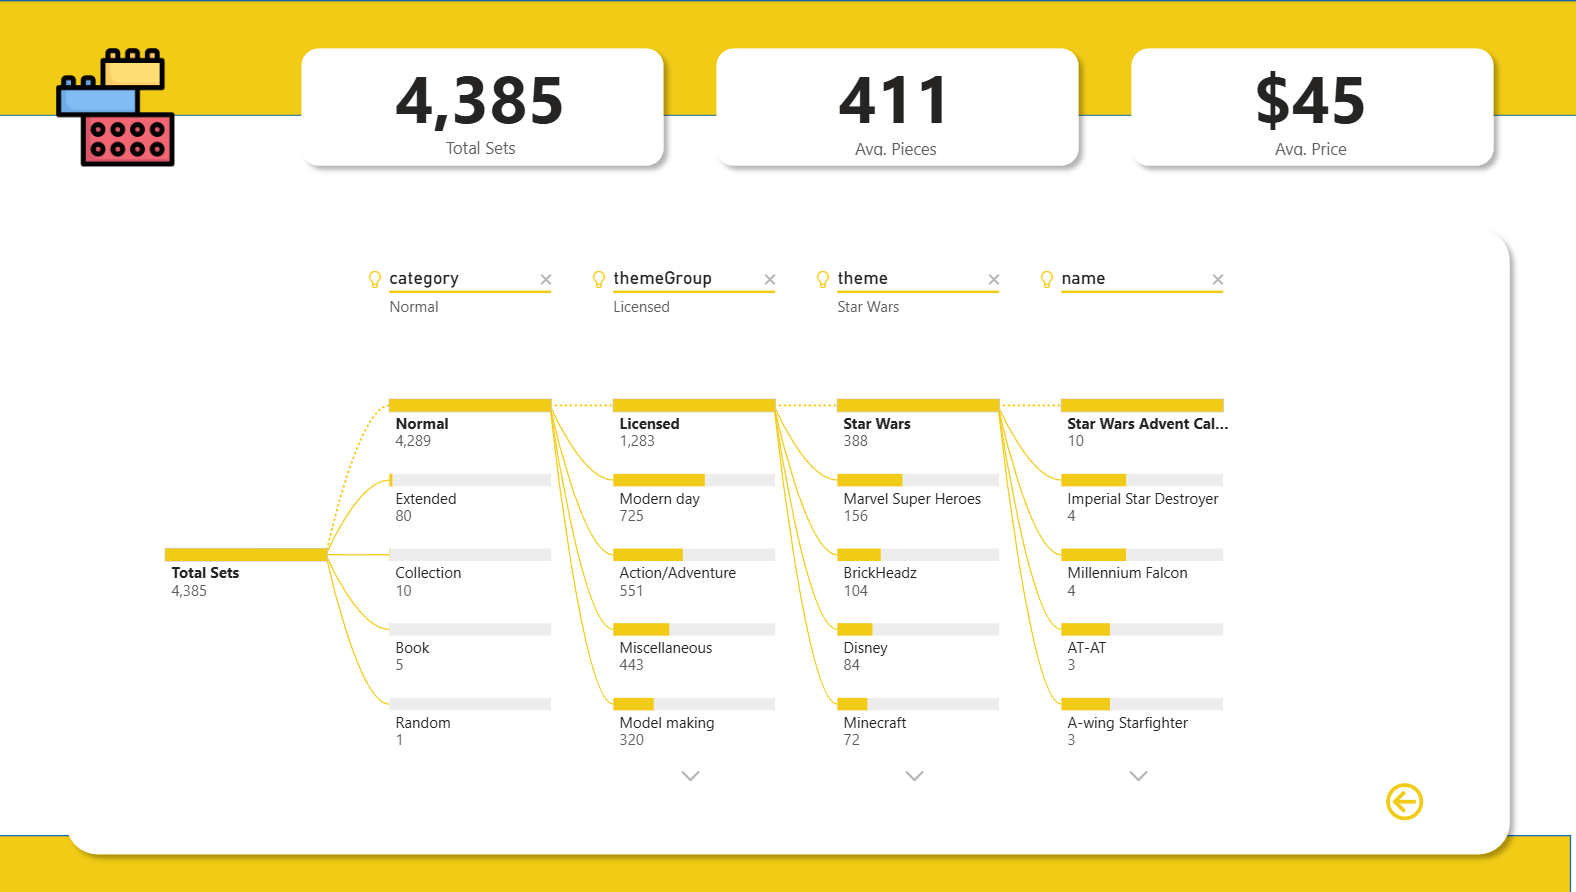

This screenshot's page, from the dashboard's own definition file:
{"tool":"powerbi","page":{"name":"Set Explorer","canvas":[1280,720],"ordinal":2},"visuals":[{"type":"shape","box":[10.4,0,1269.6,93.3],"z":0},{"type":"shape","box":[4.8,671.1,1269.6,48.6],"z":1000},{"type":"image","box":[47.8,33.5,114,105.2],"z":2000},{"type":"shape","box":[244.7,29.5,309.2,112.4],"z":3000},{"type":"shape","box":[911.8,29.5,309.2,112.4],"z":4000},{"type":"shape","box":[578.2,29.5,309.2,112.4],"z":5000},{"type":"card","fields":{"Values":["Measure Table.Total Sets"]},"box":[276.4,40.2,243.5,89.2],"z":6000},{"type":"card","fields":{"Values":["Measure Table.Avg. Price"]},"box":[943.7,40.2,243.9,89.7],"z":7000},{"type":"card","fields":{"Values":["Measure Table.Avg. Pieces"]},"box":[609.9,40.2,243.9,89.7],"z":8000},{"type":"shape","box":[55.9,175.1,1177.9,520.4],"z":9000},{"type":"decompositionTreeVisual","fields":{"Analyze":["Measure Table.Total Sets"],"ExplainBy":["lego_sets.category","lego_sets.themeGroup","lego_sets.theme","lego_sets.name"]},"box":[115.1,198.6,1072.5,472.6],"z":10000},{"type":"actionButton","box":[1121.1,624.2,99.7,39.7],"z":11000}]}

Visuals, with their boxes in screenshot pixels (x1, y1, x2, y2), scaled from the page's 1280x720 canvas onto the 1576x892 screenshot:
shape: [x1=13, y1=0, x2=1575, y2=116]
shape: [x1=6, y1=831, x2=1569, y2=891]
image: [x1=59, y1=42, x2=199, y2=172]
shape: [x1=301, y1=37, x2=682, y2=176]
shape: [x1=1123, y1=37, x2=1503, y2=176]
shape: [x1=712, y1=37, x2=1093, y2=176]
card - Measure Table.Total Sets: [x1=340, y1=50, x2=640, y2=160]
card - Measure Table.Avg. Price: [x1=1162, y1=50, x2=1462, y2=161]
card - Measure Table.Avg. Pieces: [x1=751, y1=50, x2=1051, y2=161]
shape: [x1=69, y1=217, x2=1519, y2=862]
decompositionTreeVisual - Measure Table.Total Sets x lego_sets.category: [x1=142, y1=246, x2=1462, y2=832]
actionButton: [x1=1380, y1=773, x2=1503, y2=822]
